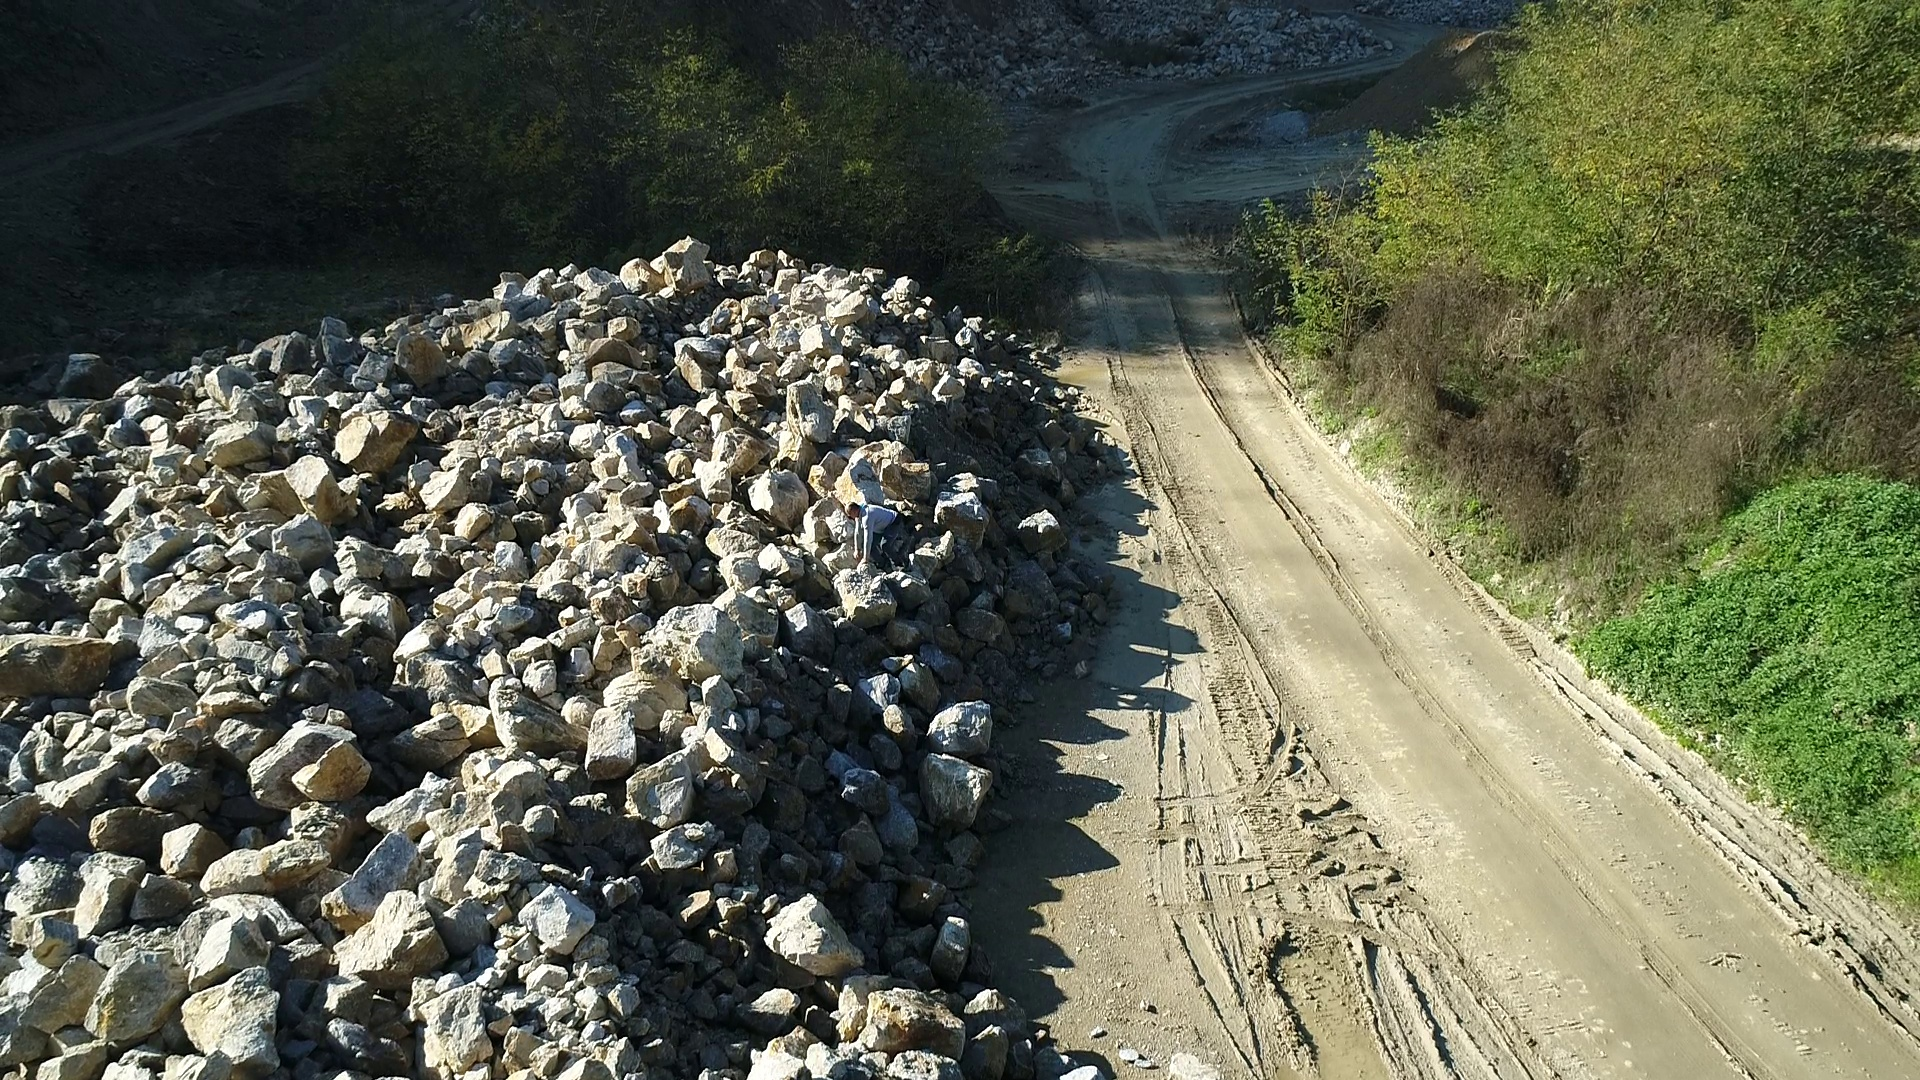not_defined: (843, 497, 913, 572)
